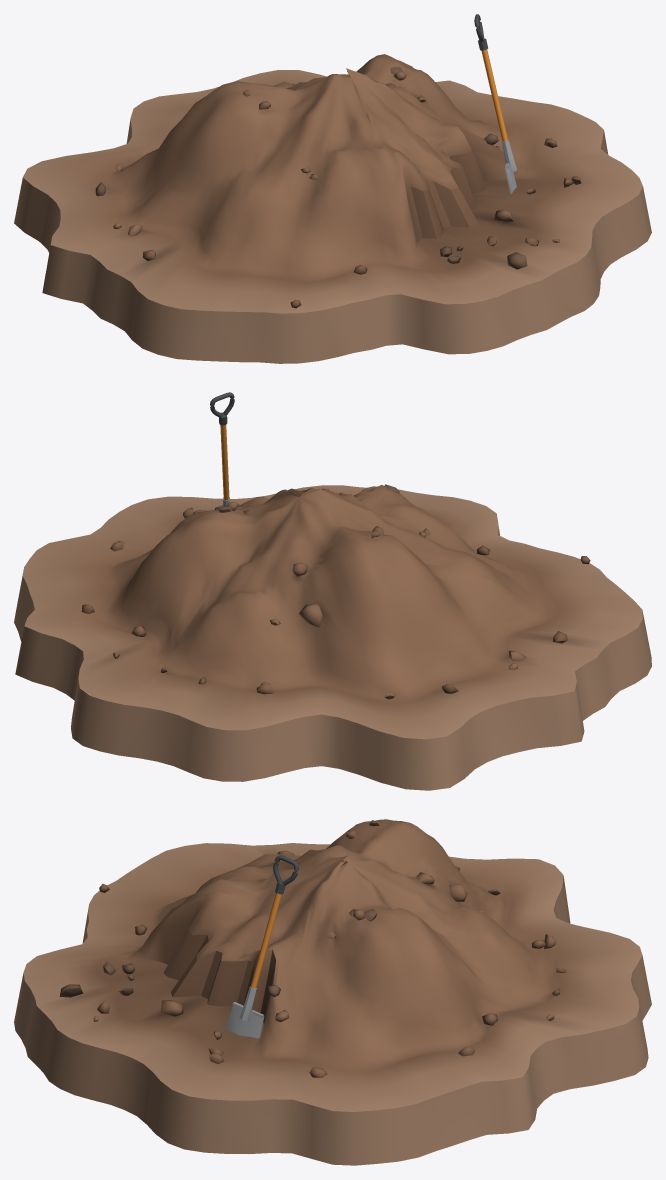
Rendered from regolith_pile.glb.
3 renders of one model, top to bottom at view 1: azimuth 30°, elevation 25°; view 2: azimuth 150°, elevation 25°; view 3: azimuth 270°, elevation 25°, orthographic. The views are drawn at different scales.
Parts seen in each view (by area): view 1: heap_mesh, shovel_mesh; view 2: heap_mesh, shovel_mesh; view 3: heap_mesh, shovel_mesh.
Boxes of the visible parts, x1=… form: heap_mesh: x1=14, y1=54, x2=651, y2=363; shovel_mesh: x1=474, y1=14, x2=517, y2=194; heap_mesh: x1=14, y1=484, x2=651, y2=790; shovel_mesh: x1=210, y1=392, x2=234, y2=506; heap_mesh: x1=14, y1=819, x2=651, y2=1165; shovel_mesh: x1=225, y1=855, x2=298, y2=1038.
Size of the model in its own units: 3.56 by 1.31 by 3.36.
